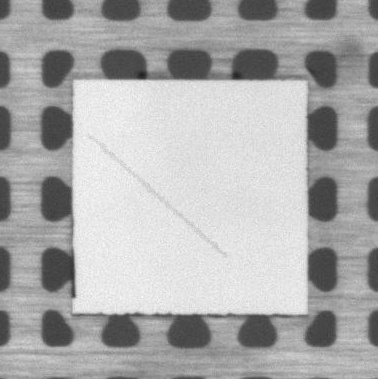DIE_CRACK: (88, 134, 226, 258)
